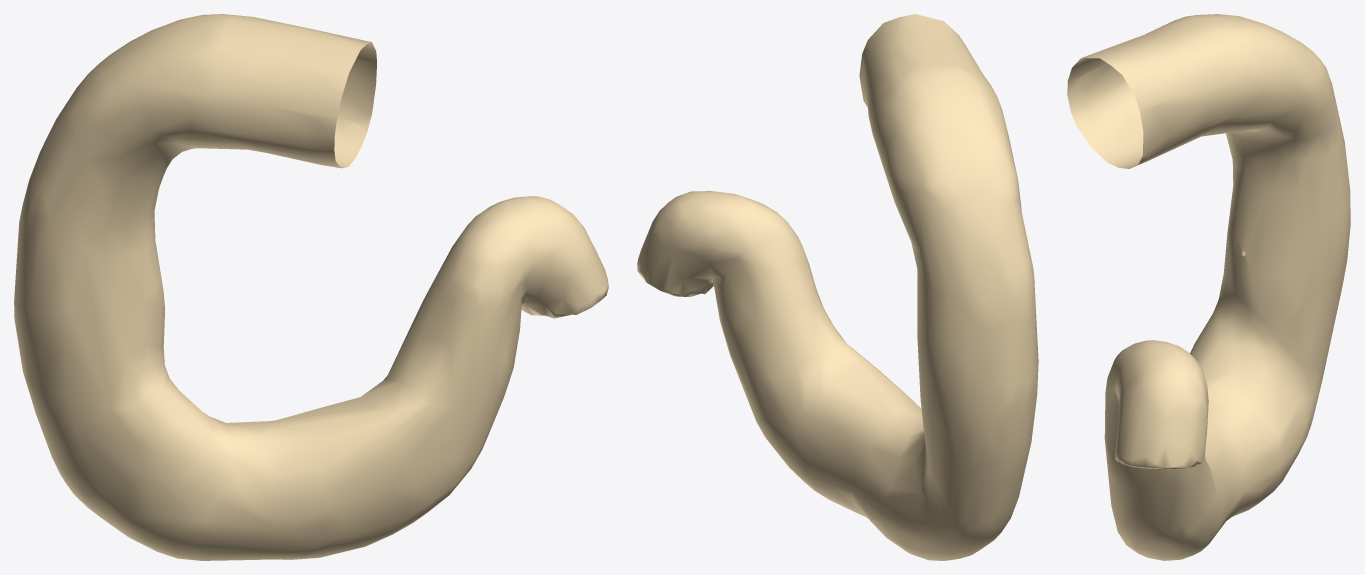
File: duodeno.glb
3 renders of one model, left to right at view 1: azimuth 30°, elevation 25°; view 2: azimuth 150°, elevation 25°; view 3: azimuth 270°, elevation 25°, orthographic. The views are drawn at different scales.
Visible parts, largest first — view 1: duodeno; view 2: duodeno; view 3: duodeno.
Part boxes in pixels (left/top/right/bottom): duodeno: left=14, top=14, right=608, bottom=560; duodeno: left=637, top=14, right=1038, bottom=560; duodeno: left=1067, top=14, right=1350, bottom=560.
Size of the model in its own units: 0.098 by 0.0984 by 0.0516.
